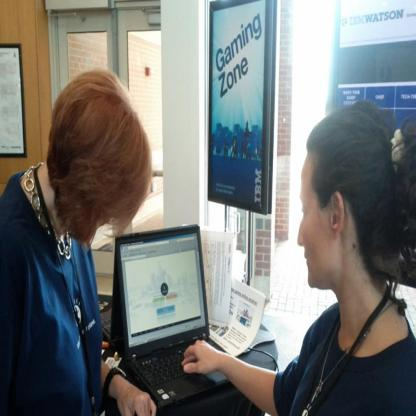board: (117, 228, 232, 404), (100, 222, 198, 348)
